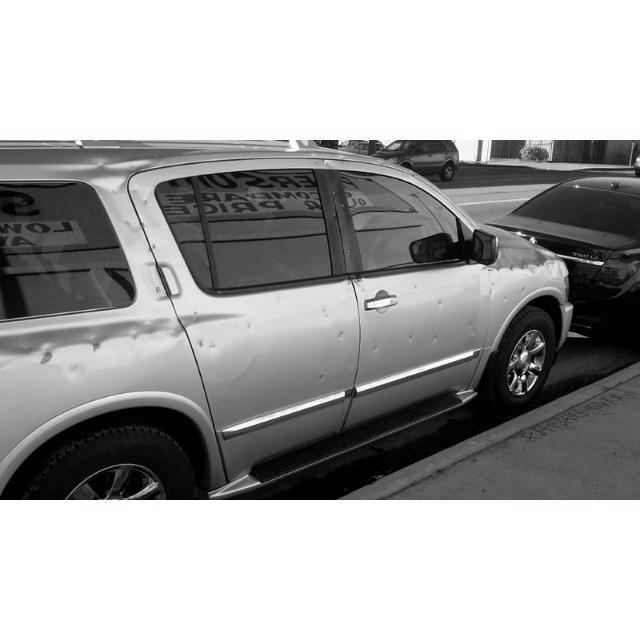doorouter-dent: (213, 299, 357, 481), (352, 279, 482, 415)
fender-dent: (485, 240, 576, 344)
quaterpanel-dent: (1, 299, 166, 461)
